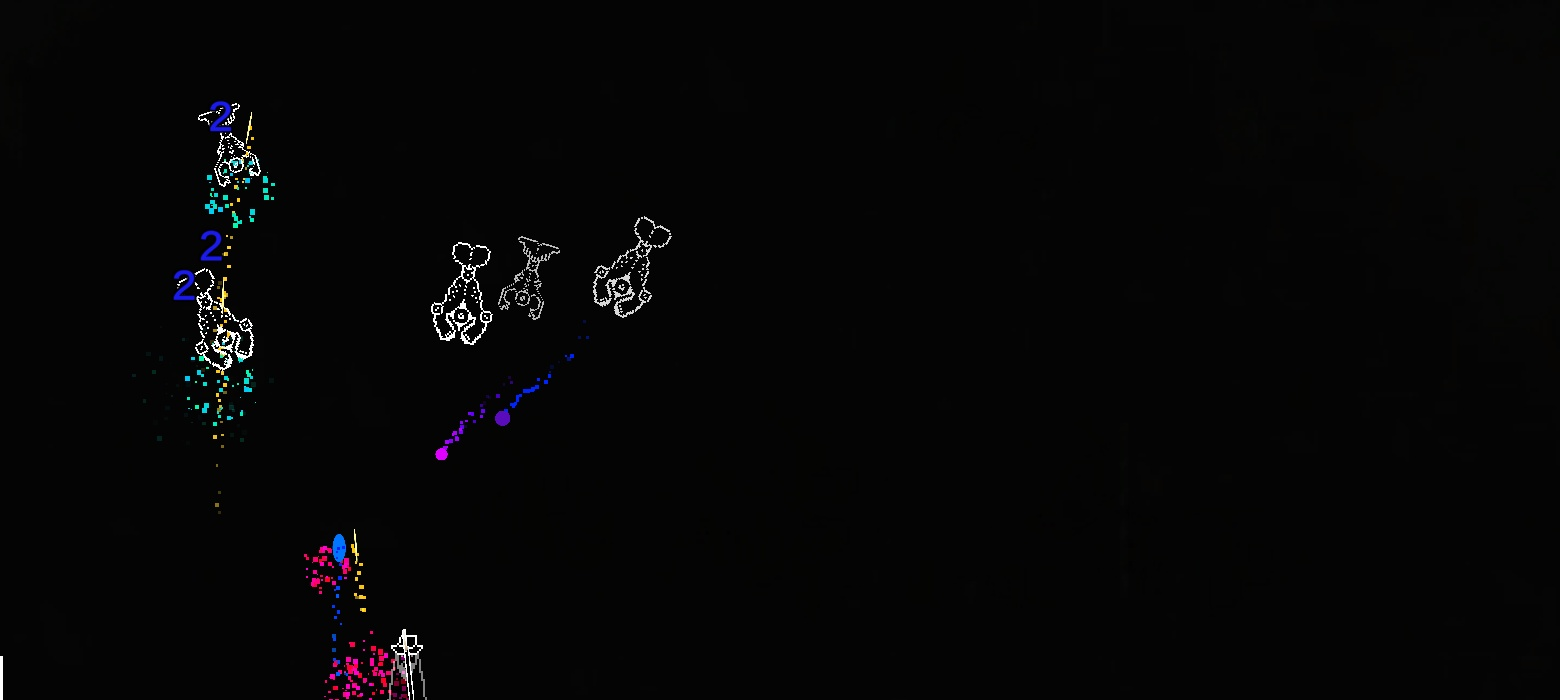enemy: (176, 267, 255, 371), (592, 216, 672, 318), (429, 242, 493, 346), (497, 235, 561, 321), (197, 102, 261, 187)
